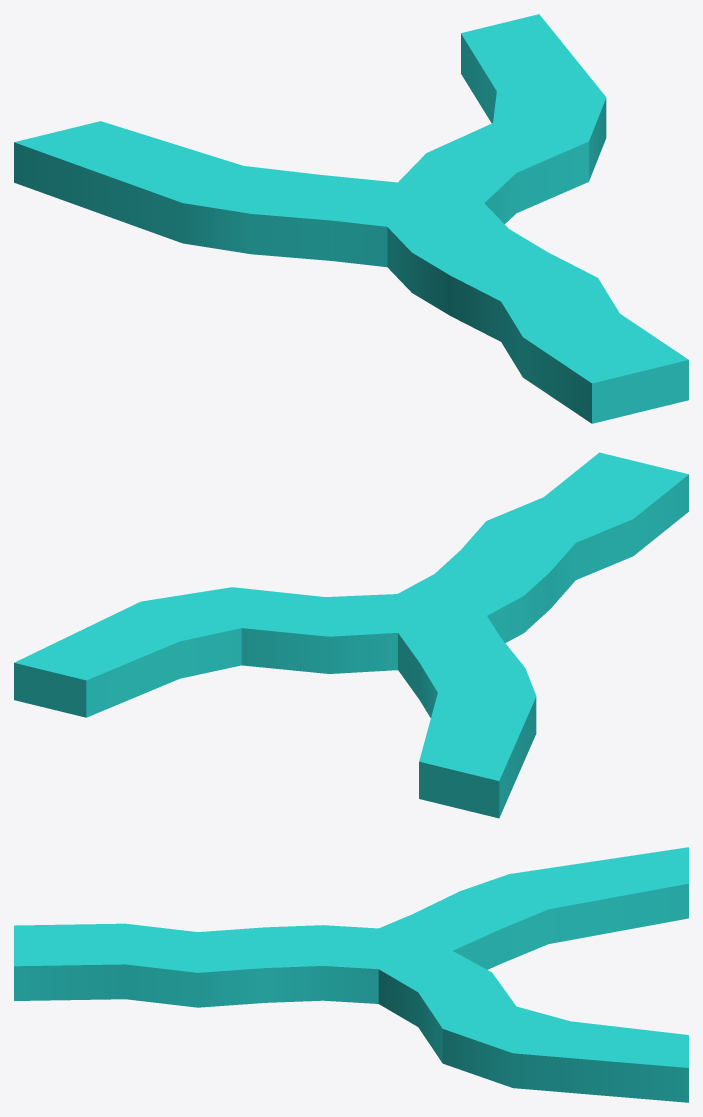
File: Water_Mongrove.fbx
3 renders of one model, top to bottom at view 1: azimuth 30°, elevation 25°; view 2: azimuth 150°, elevation 25°; view 3: azimuth 270°, elevation 25°, orthographic. The views are drawn at different scales.
Visible parts, largest first — view 1: river; view 2: river; view 3: river.
Boxes of the visible parts, x1=… form: river: x1=14, y1=14, x2=688, y2=423; river: x1=14, y1=452, x2=688, y2=818; river: x1=14, y1=847, x2=688, y2=1102.
Bounding box in the file's own units: 4806 × 353 × 6206.
